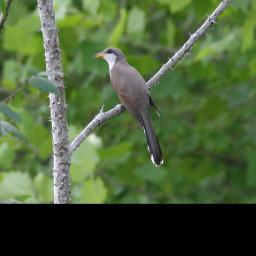Cuckoo: (92, 45, 166, 168)
